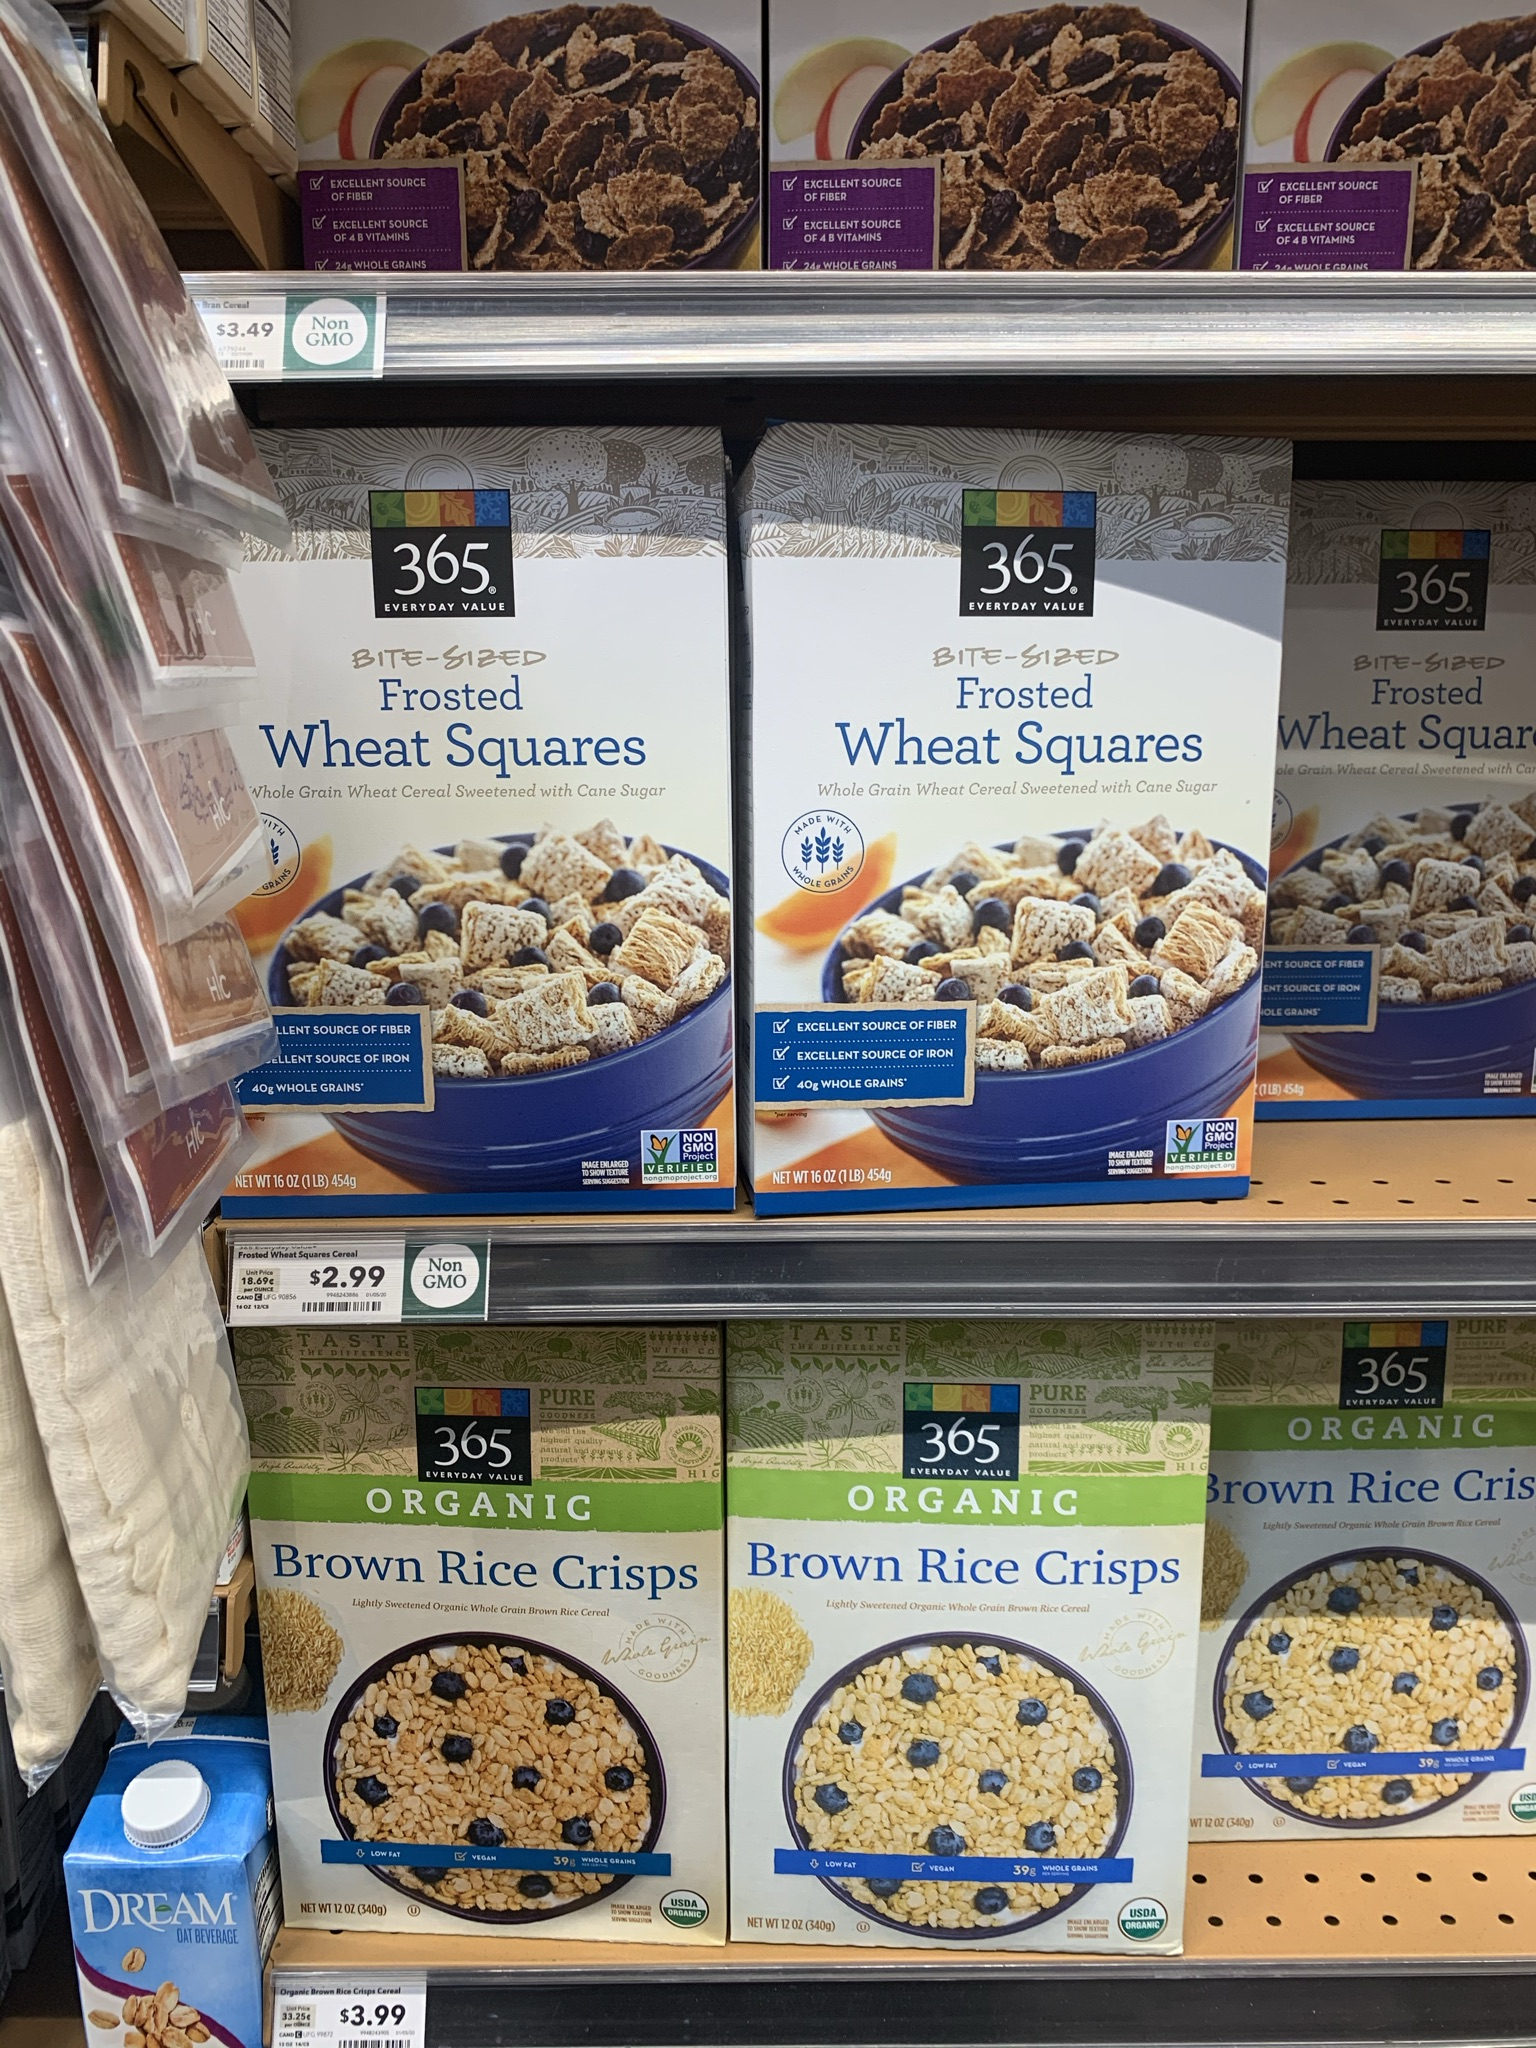Cereal: (744, 423, 1252, 1205), (252, 411, 741, 1211), (726, 1317, 1212, 1977)
